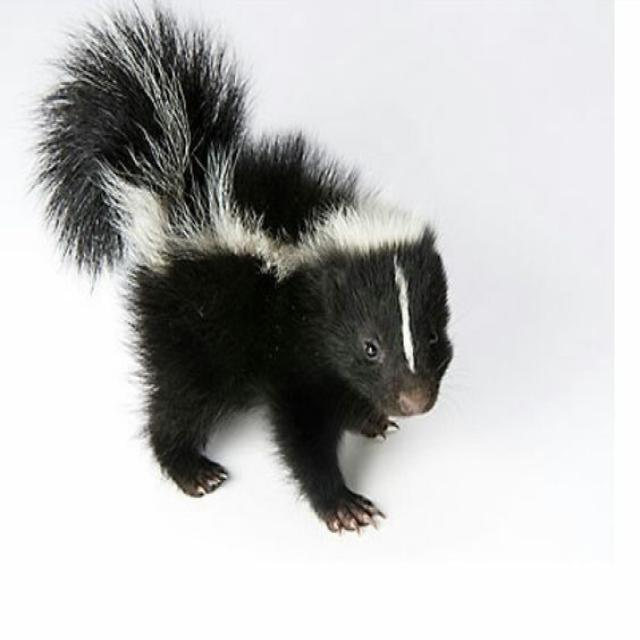Skunk: (0, 0, 469, 573)
